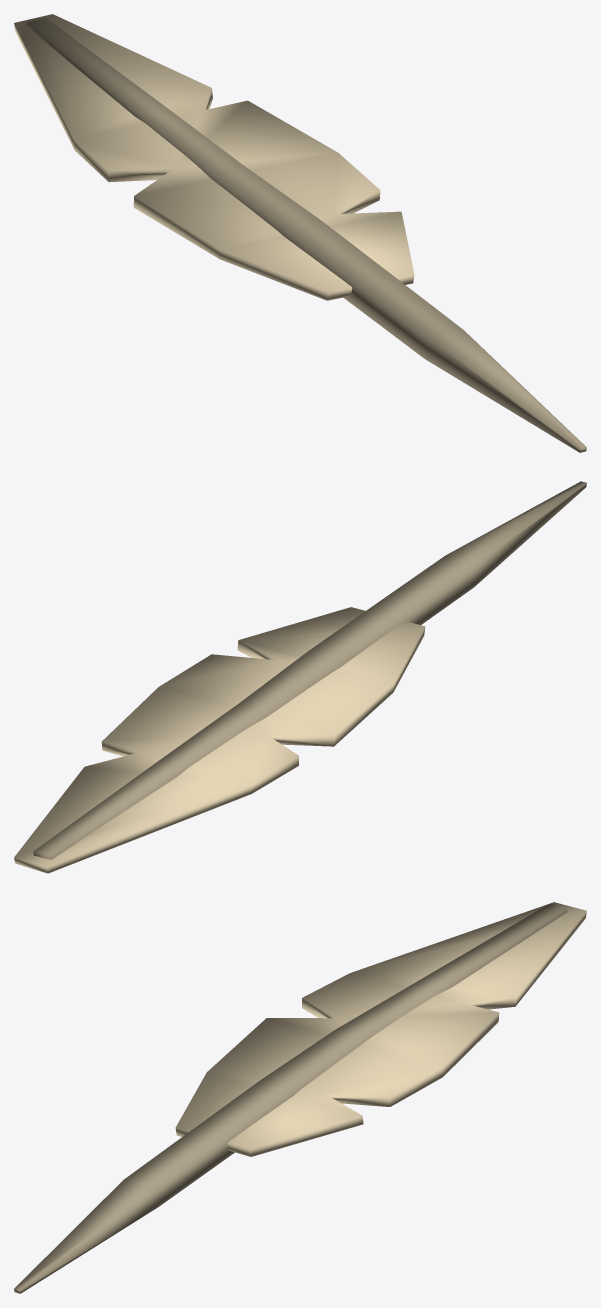
Rendered from rpgpp_ag_feather pen_01b.fbx.
The picture shows the model from 3 angles, top to bottom: view 1: azimuth 30°, elevation 25°; view 2: azimuth 150°, elevation 25°; view 3: azimuth 330°, elevation 25°; orthographic projection. The views are drawn at different scales.
Parts seen in each view (by area): view 1: rpgpp_ag_feather pen_01b; view 2: rpgpp_ag_feather pen_01b; view 3: rpgpp_ag_feather pen_01b.
Boxes of the visible parts, x1=… form: rpgpp_ag_feather pen_01b: x1=14, y1=14, x2=586, y2=452; rpgpp_ag_feather pen_01b: x1=14, y1=481, x2=586, y2=873; rpgpp_ag_feather pen_01b: x1=14, y1=902, x2=586, y2=1293.
Size of the model in its own units: 0.1087 by 0.0145 by 0.5495.
